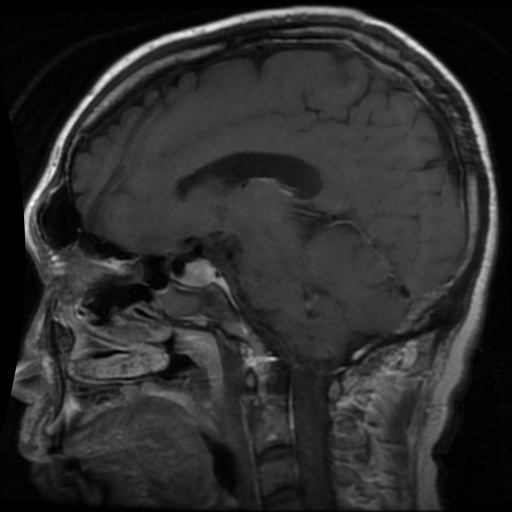pituitary: (183, 260, 215, 284)
